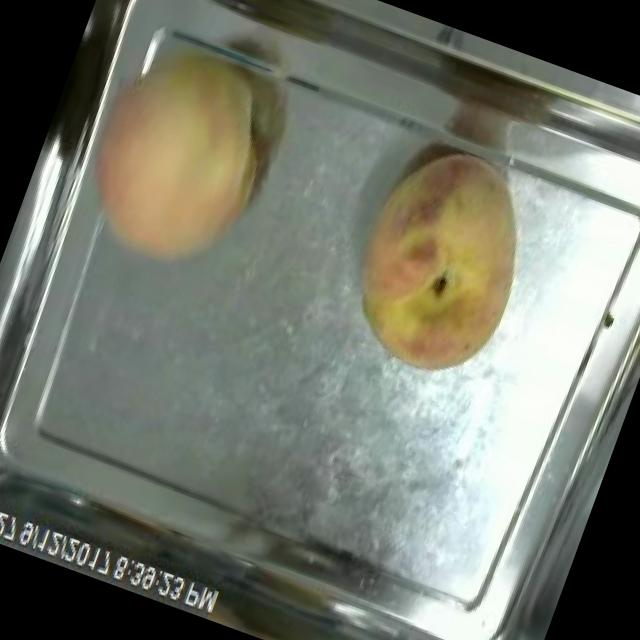Fruit: (43, 16, 304, 301), (318, 124, 561, 398)
